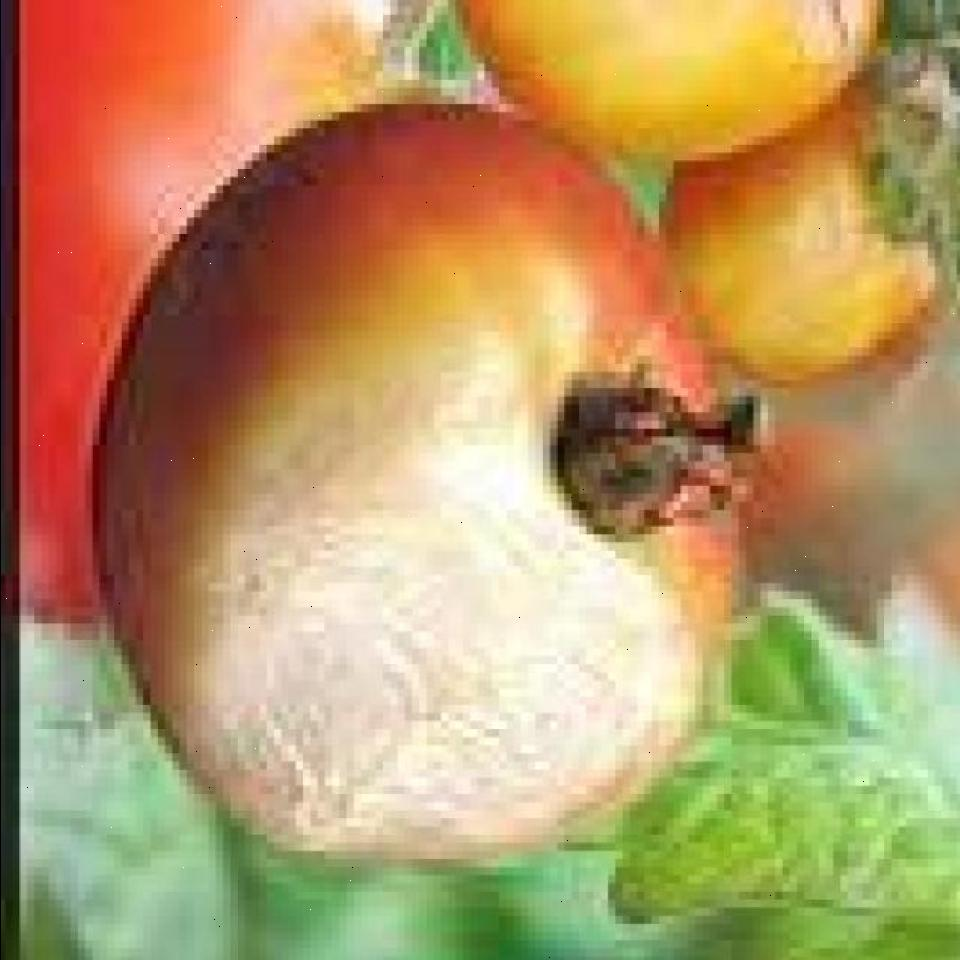Sunscald: (156, 283, 694, 908)
